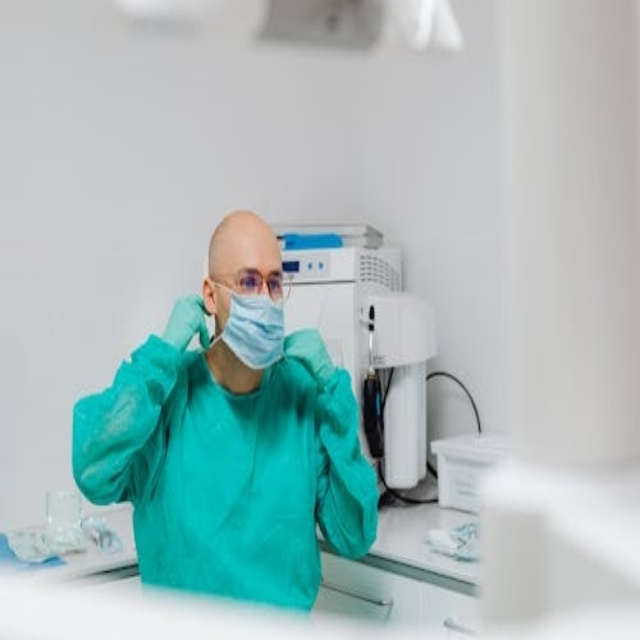Gafas: (212, 270, 292, 301)
Guantes: (285, 327, 339, 392), (161, 293, 212, 355)
Mascara: (215, 281, 287, 369)
